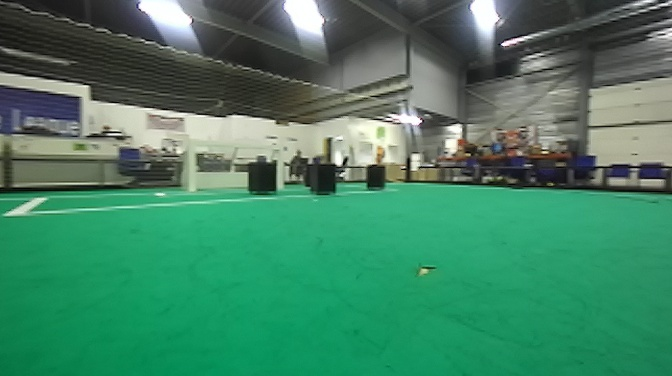goalpost: (178, 142, 197, 196), (274, 144, 287, 196)
